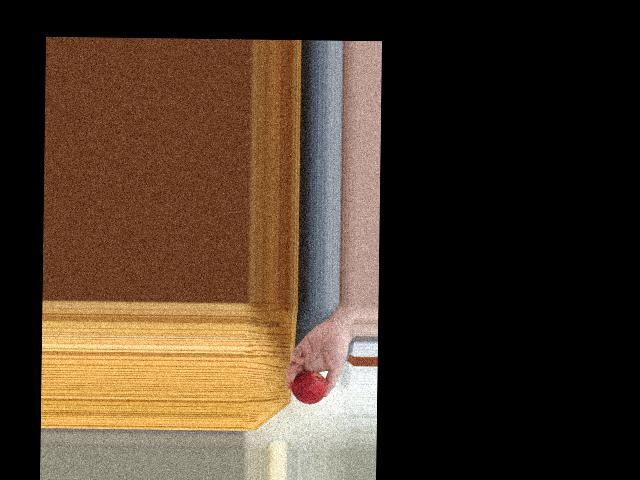apple: (289, 370, 329, 405)
